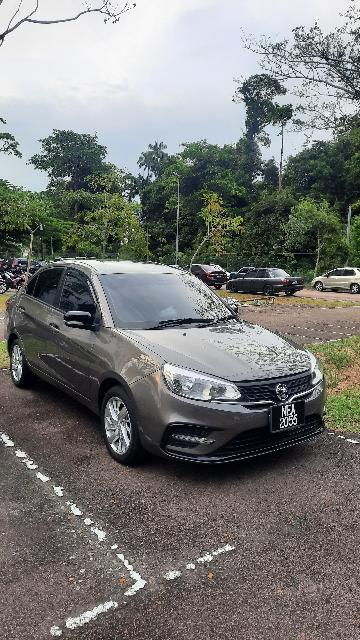License_Plate: (272, 401, 309, 433)
car: (9, 259, 328, 470)
